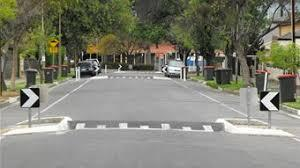Bump: (42, 119, 253, 136), (102, 76, 158, 80)
